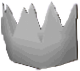partyhat: (1, 1, 80, 71)
